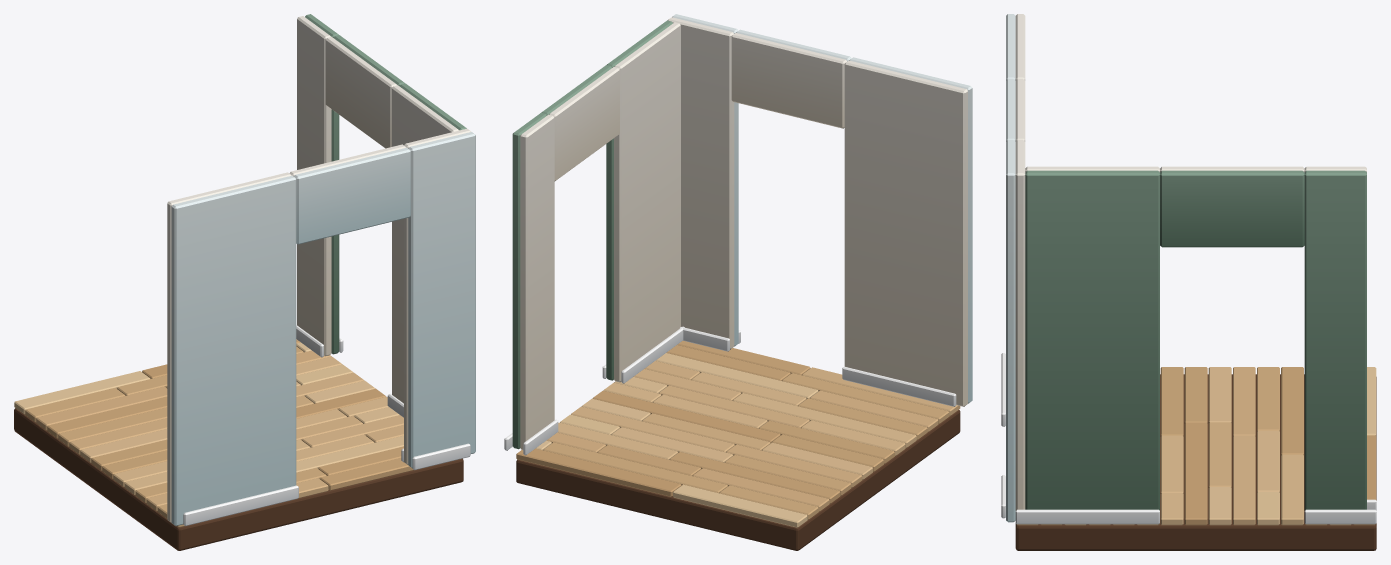
Rendered from house-corridor.glb.
3 views of the same model, side by side, from view 1: azimuth 30°, elevation 25°; view 2: azimuth 150°, elevation 25°; view 3: azimuth 270°, elevation 25° (orthographic). The views are drawn at different scales.
Parts seen in each view (by area): view 1: wall-corridor-bathroom, floor-corridor, wall-corridor-study, lintel-corridor-bathroom-0, lintel-corridor-study-0; view 2: wall-corridor-bathroom, floor-corridor, wall-corridor-study, lintel-corridor-bathroom-0, lintel-corridor-study-0; view 3: wall-corridor-study, floor-corridor, lintel-corridor-study-0, wall-corridor-bathroom, lintel-corridor-bathroom-0.
Part boxes in pixels (left/top/right/bottom): wall-corridor-bathroom: left=167, top=128, right=475, bottom=525; floor-corridor: left=14, top=339, right=463, bottom=550; wall-corridor-study: left=296, top=14, right=466, bottom=417; lintel-corridor-bathroom-0: left=289, top=144, right=410, bottom=244; lintel-corridor-study-0: left=325, top=35, right=404, bottom=148; wall-corridor-bathroom: left=667, top=14, right=972, bottom=406; floor-corridor: left=516, top=341, right=960, bottom=550; wall-corridor-study: left=504, top=20, right=684, bottom=455; lintel-corridor-bathroom-0: left=731, top=29, right=851, bottom=128; lintel-corridor-study-0: left=541, top=65, right=619, bottom=181; wall-corridor-study: left=1015, top=166, right=1376, bottom=524; floor-corridor: left=1015, top=367, right=1376, bottom=550; lintel-corridor-study-0: left=1160, top=166, right=1304, bottom=247; wall-corridor-bathroom: left=1001, top=14, right=1025, bottom=522; lintel-corridor-bathroom-0: left=1006, top=79, right=1025, bottom=141.
Bounding box in the file's own units: 4 × 4.38 × 3.9.
Materials: 1 (1 with a texture image).
